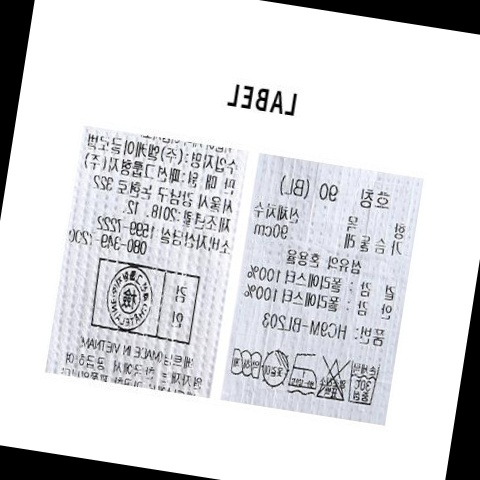DN_bleach: (313, 355, 351, 403)
hand_wash: (343, 357, 380, 408)
iron_low: (287, 351, 322, 396)
line_dry_in_shade: (258, 345, 293, 393)
wring: (227, 343, 264, 384)
